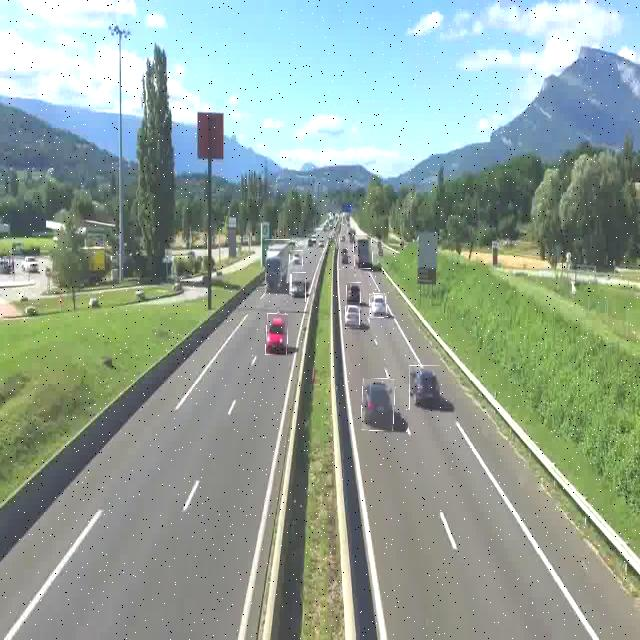Car: (362, 379, 394, 431), (409, 365, 440, 410), (265, 314, 288, 355), (369, 293, 387, 318), (292, 272, 306, 303), (346, 302, 360, 328), (347, 282, 361, 305), (291, 250, 303, 269)
Truck: (266, 239, 292, 294), (354, 235, 372, 269)
